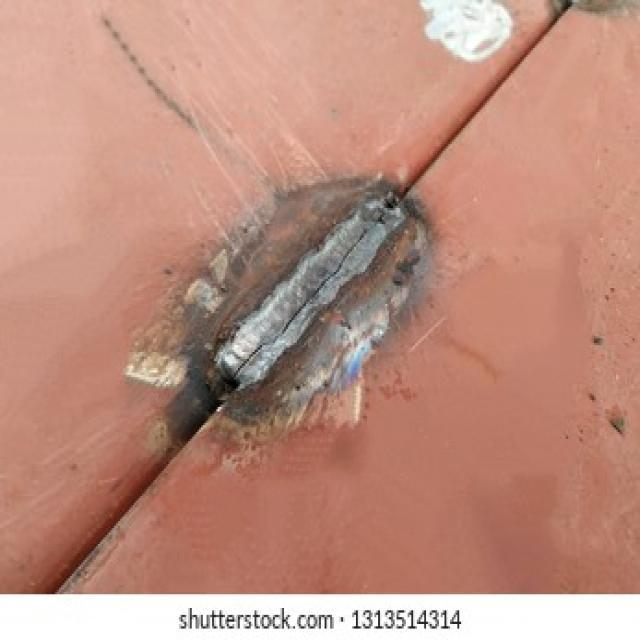Crack: (218, 192, 405, 389)
